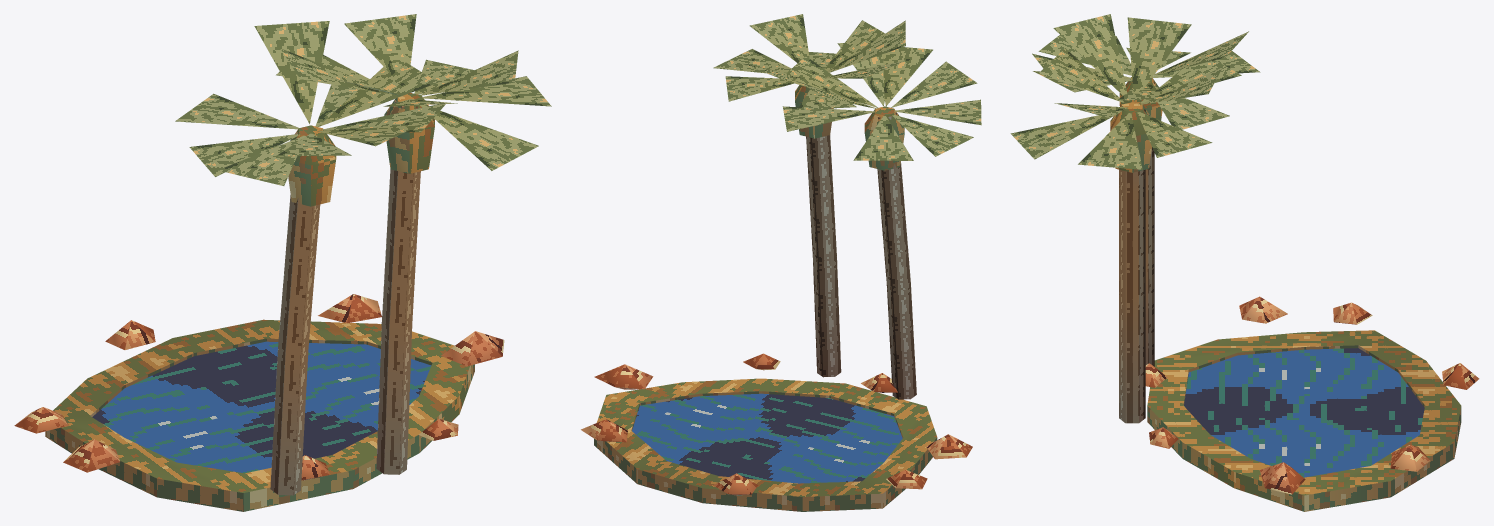
The model's file is wland.oasis.glb.
3 renders of one model, left to right at view 1: azimuth 30°, elevation 25°; view 2: azimuth 150°, elevation 25°; view 3: azimuth 270°, elevation 25°, orthographic. The views are drawn at different scales.
Parts seen in each view (by area): view 1: kit_card_fronds_back, kit_water, kit_bank, kit_trunks, kit_rocks, kit_skirts; view 2: kit_water, kit_card_fronds_back, kit_bank, kit_trunks, kit_rocks, kit_skirts; view 3: kit_water, kit_card_fronds_back, kit_bank, kit_trunks, kit_rocks, kit_skirts.
Boxes of the visible parts, left/top/right/bottom form: kit_card_fronds_back: left=175, top=14, right=551, bottom=185; kit_water: left=92, top=341, right=431, bottom=473; kit_bank: left=45, top=319, right=474, bottom=511; kit_trunks: left=270, top=100, right=420, bottom=495; kit_rocks: left=14, top=294, right=504, bottom=480; kit_skirts: left=288, top=93, right=434, bottom=206; kit_water: left=632, top=393, right=902, bottom=483; kit_card_fronds_back: left=713, top=14, right=981, bottom=160; kit_bank: left=594, top=378, right=937, bottom=511; kit_trunks: left=806, top=112, right=916, bottom=399; kit_rocks: left=581, top=353, right=972, bottom=495; kit_skirts: left=795, top=85, right=904, bottom=170; kit_water: left=1184, top=348, right=1424, bottom=477; kit_card_fronds_back: left=1010, top=14, right=1260, bottom=169; kit_bank: left=1147, top=330, right=1461, bottom=511; kit_trunks: left=1119, top=81, right=1154, bottom=423; kit_rocks: left=1145, top=296, right=1479, bottom=494; kit_skirts: left=1110, top=77, right=1162, bottom=172.
Bounding box in the file's own units: 7.58 × 7.03 × 7.77.
Materials: 6 (6 with a texture image).
